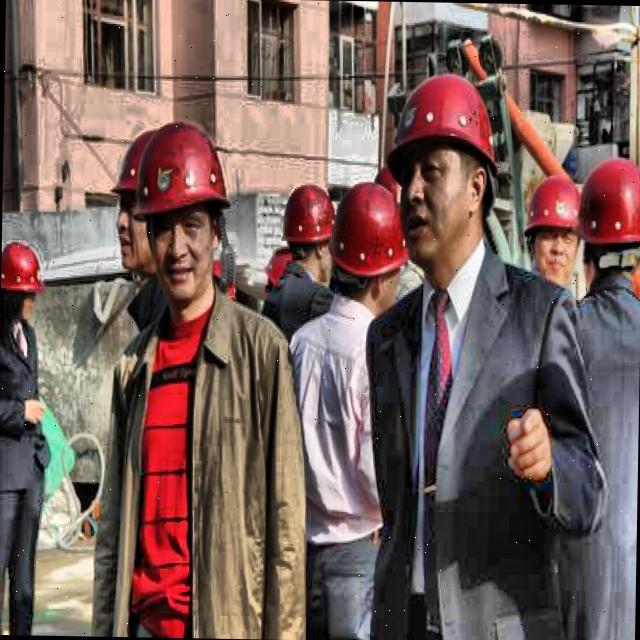helmet: (382, 70, 496, 274), (138, 114, 232, 303), (330, 182, 409, 320), (572, 158, 640, 304), (107, 126, 166, 277), (522, 169, 586, 290), (280, 177, 336, 286), (1, 232, 45, 346)
